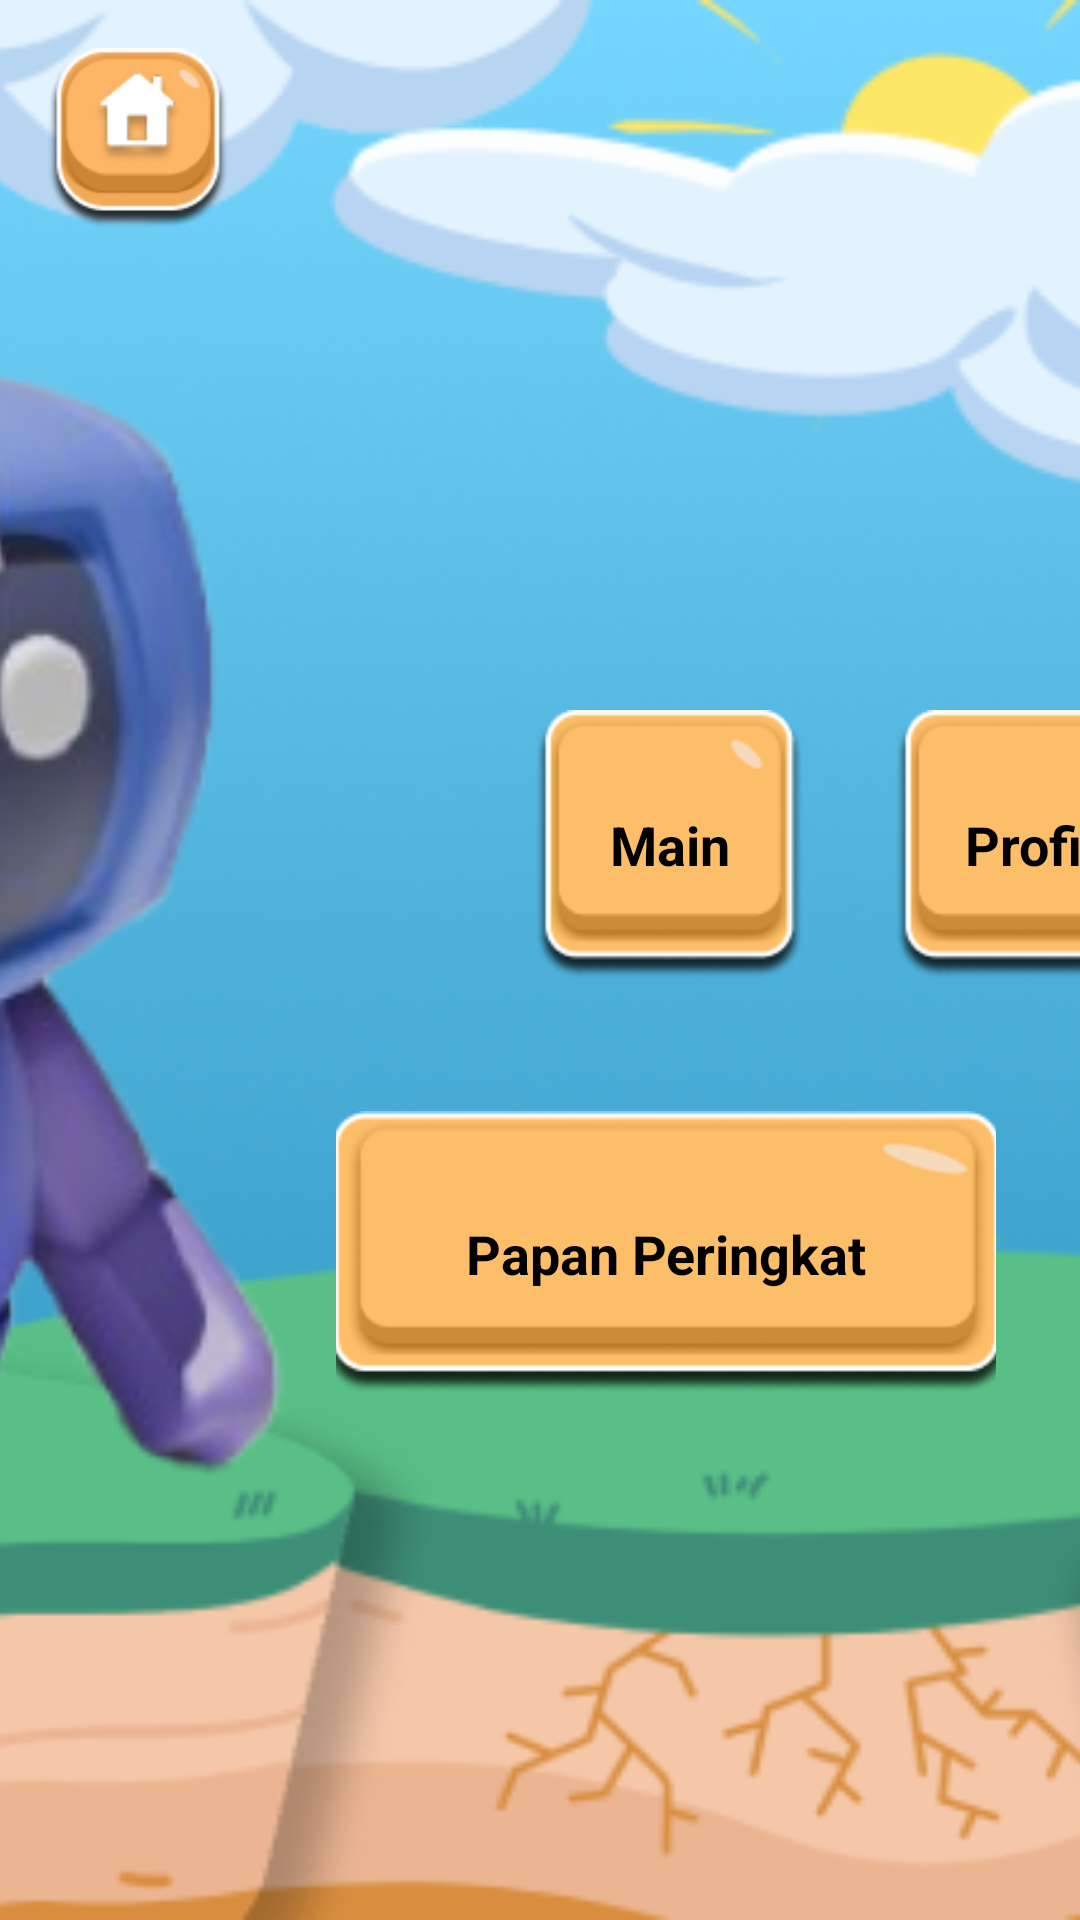

Icons on this 1080 x 1920 Android screen, each with the point to tap as (x,y):
btnhome: (138,138)
